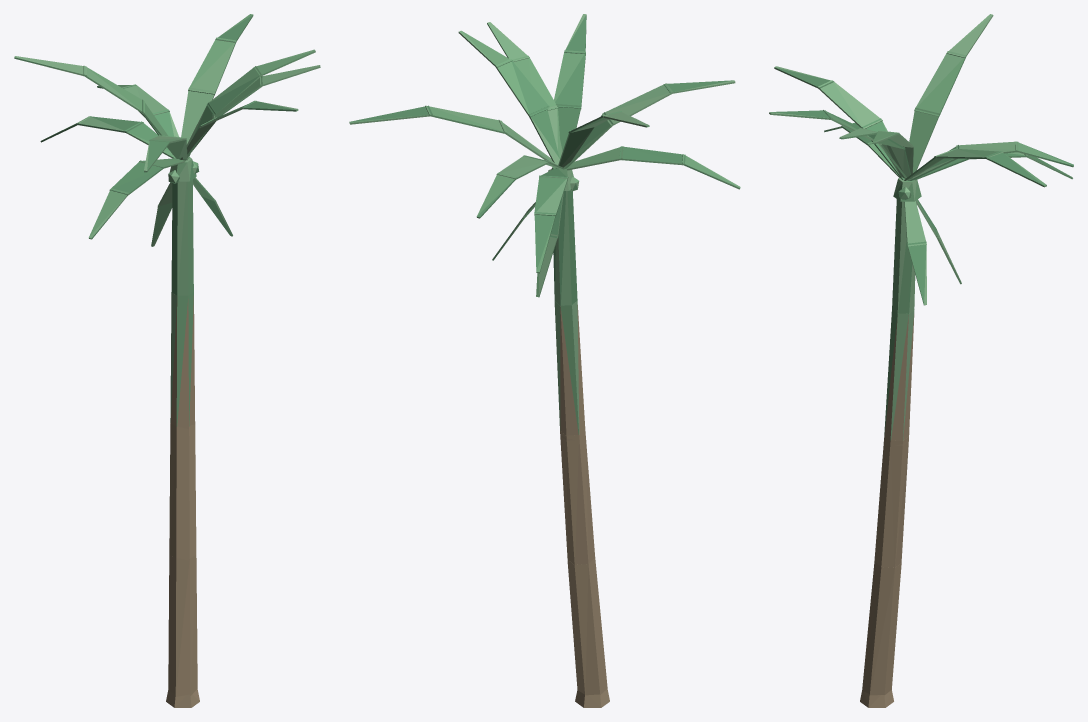
Rendered from palm-tree-00.glb.
3 views of the same model, side by side, from view 1: azimuth 30°, elevation 25°; view 2: azimuth 150°, elevation 25°; view 3: azimuth 270°, elevation 25° (orthographic). The views are drawn at different scales.
Parts seen in each view (by area): view 1: palm_tree_00; view 2: palm_tree_00; view 3: palm_tree_00.
Boxes of the visible parts, x1,y1,x2,y2 form: palm_tree_00: [14, 14, 320, 707]; palm_tree_00: [349, 14, 740, 707]; palm_tree_00: [769, 14, 1073, 707].
Bounding box in the file's own units: 4.84 × 10.68 × 4.66.
